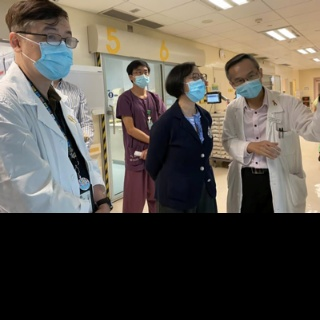with_mask: (21, 25, 74, 80), (230, 72, 263, 98), (184, 71, 207, 101), (132, 68, 151, 88)
